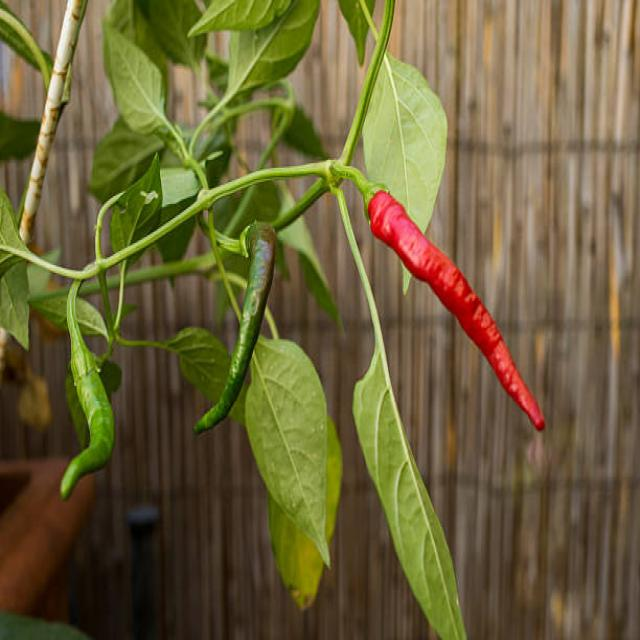Ripe: (366, 190, 545, 430)
Unripe: (195, 223, 275, 433), (63, 348, 114, 497)
